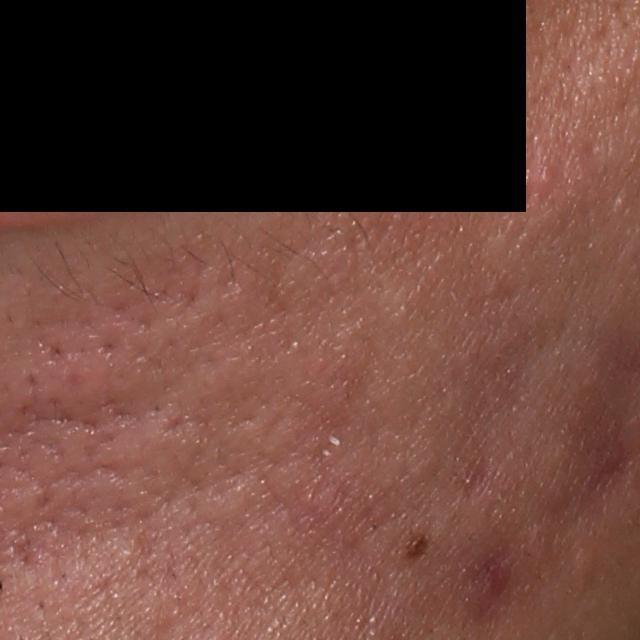nevus: (399, 530, 431, 565)
